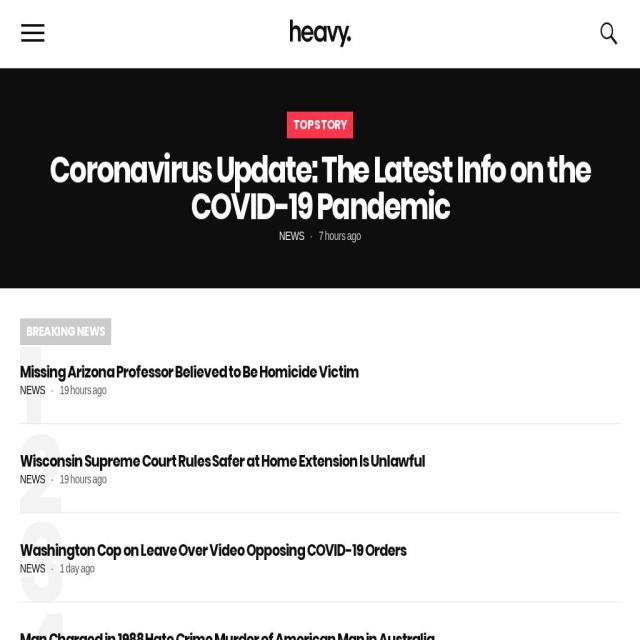button: (0, 69, 640, 288), (20, 424, 620, 514), (20, 335, 620, 424), (20, 514, 620, 602), (20, 602, 620, 640), (577, 0, 640, 68), (290, 18, 354, 48), (20, 15, 46, 51), (264, 85, 290, 119), (294, 85, 320, 119), (324, 85, 350, 119), (354, 85, 380, 119)
field: (195, 0, 445, 68)
heading: (20, 152, 620, 225), (20, 362, 620, 381), (20, 452, 620, 470), (20, 541, 620, 559), (20, 630, 620, 640), (26, 323, 106, 340)
image: (290, 18, 354, 48)
link: (59, 384, 107, 396), (59, 473, 107, 485), (318, 230, 361, 242), (59, 563, 95, 574)
text: (292, 117, 348, 133), (279, 230, 305, 242), (20, 384, 46, 396), (20, 473, 46, 485), (20, 563, 46, 574)
